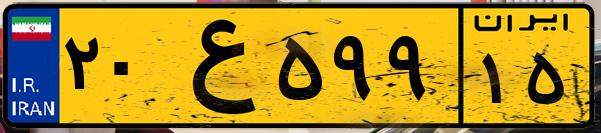0: (110, 28, 158, 98)
1: (475, 38, 525, 113)
2: (57, 26, 110, 100)
5: (270, 28, 330, 110), (525, 38, 570, 115)
9: (385, 28, 445, 110), (330, 28, 385, 110)
ع: (158, 12, 270, 120)
